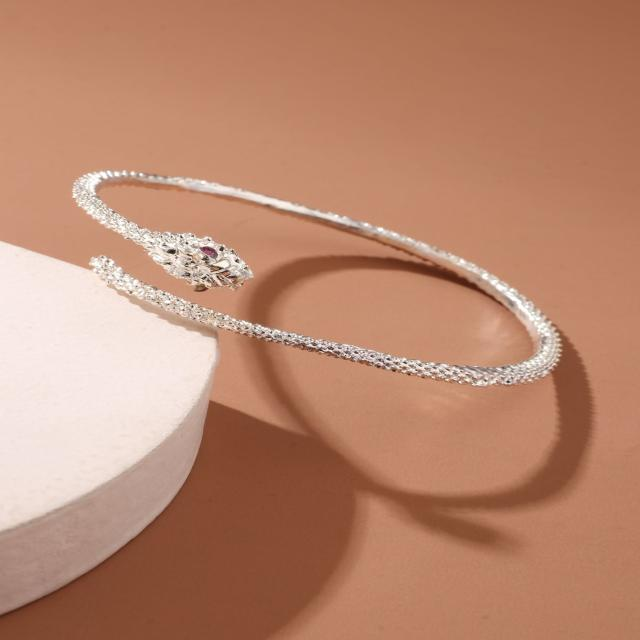bracelet: (32, 122, 640, 495)
